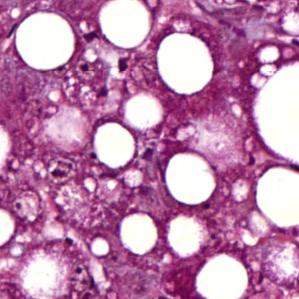steatosis: (158, 33, 216, 100), (10, 12, 74, 70), (164, 153, 221, 206), (190, 250, 249, 299), (90, 122, 134, 173), (118, 209, 163, 254)
